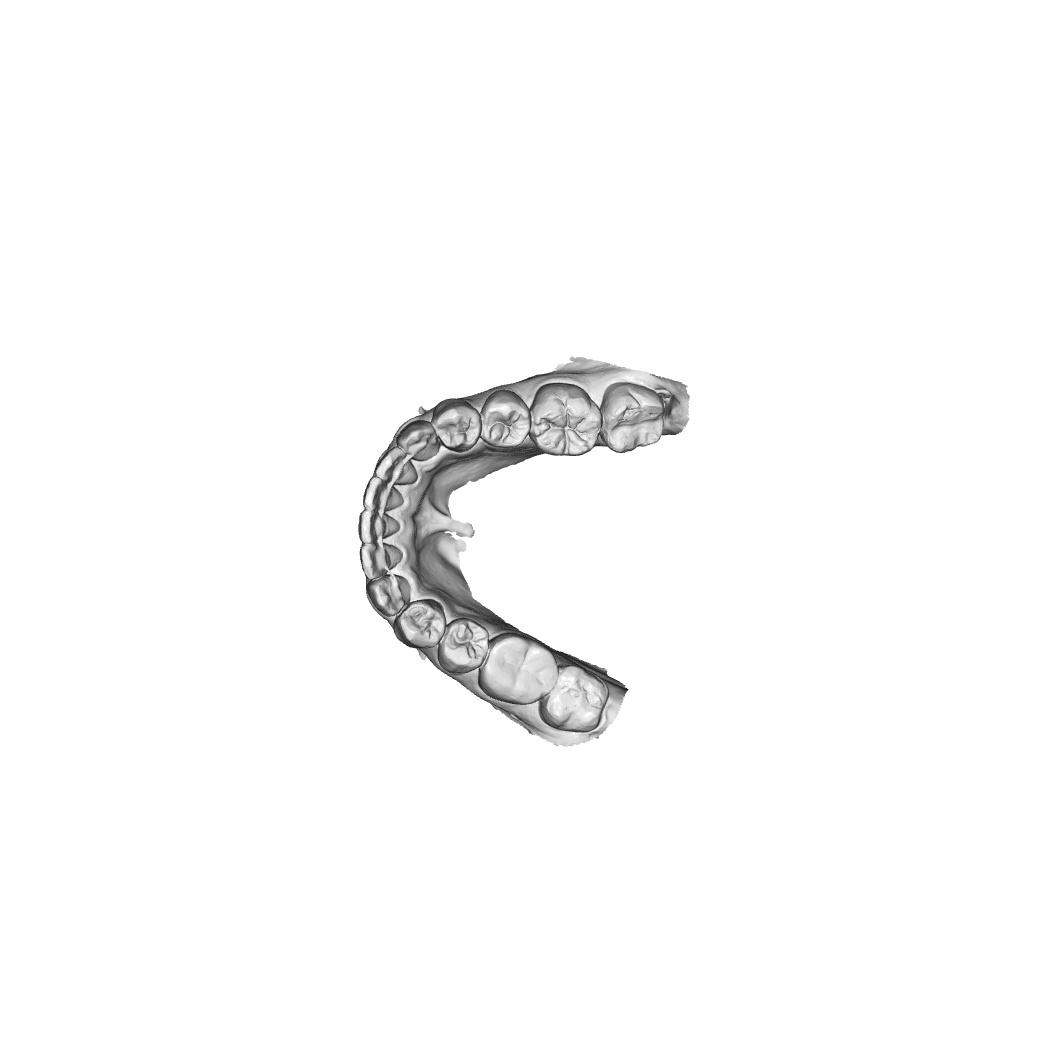canine: (365, 573, 412, 617), (396, 419, 441, 462)
incisor: (374, 446, 419, 487), (359, 542, 404, 581), (358, 509, 401, 545), (362, 474, 404, 510)
molar: (477, 632, 559, 706), (530, 381, 604, 458), (539, 664, 611, 733), (603, 382, 668, 454)
premolar: (479, 389, 531, 450), (437, 617, 490, 674), (430, 397, 483, 452), (392, 598, 447, 649)
